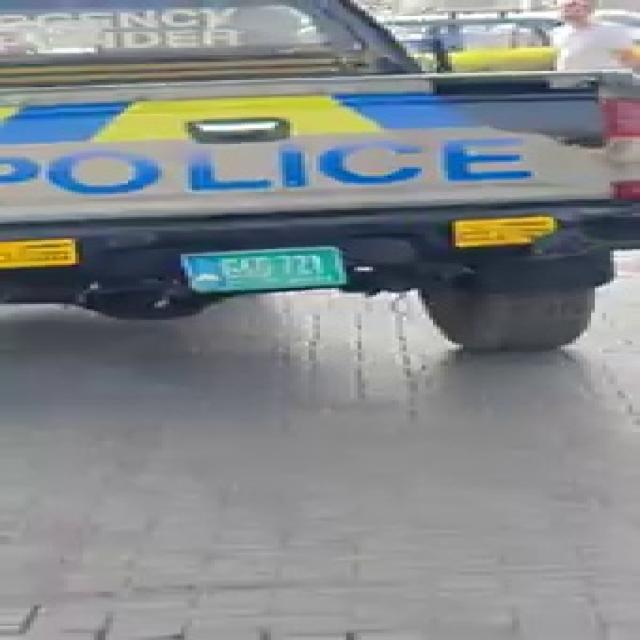police: (15, 0, 640, 359)
